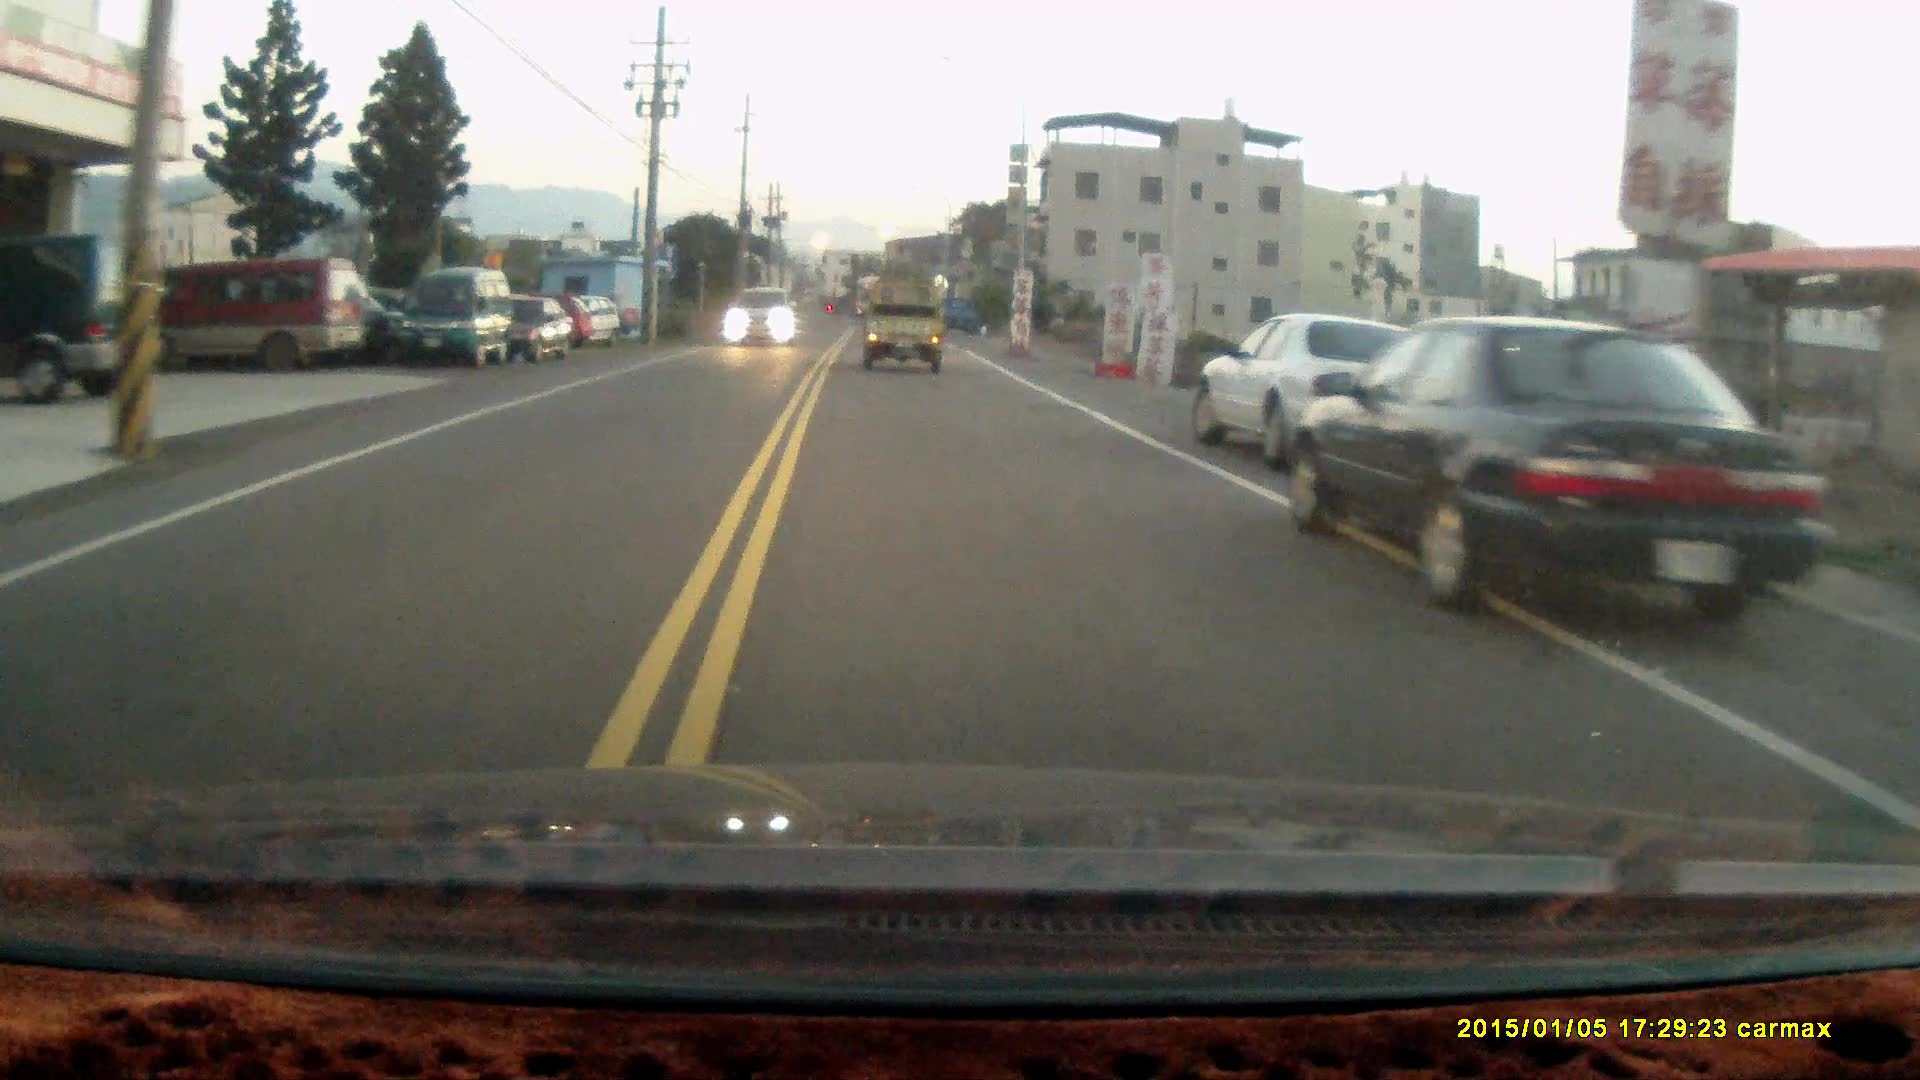vehicle: (1290, 320, 1783, 667), (1193, 316, 1412, 465), (127, 256, 375, 378), (0, 239, 173, 402), (397, 272, 518, 373), (864, 281, 944, 378), (483, 293, 575, 367), (720, 289, 800, 349)
